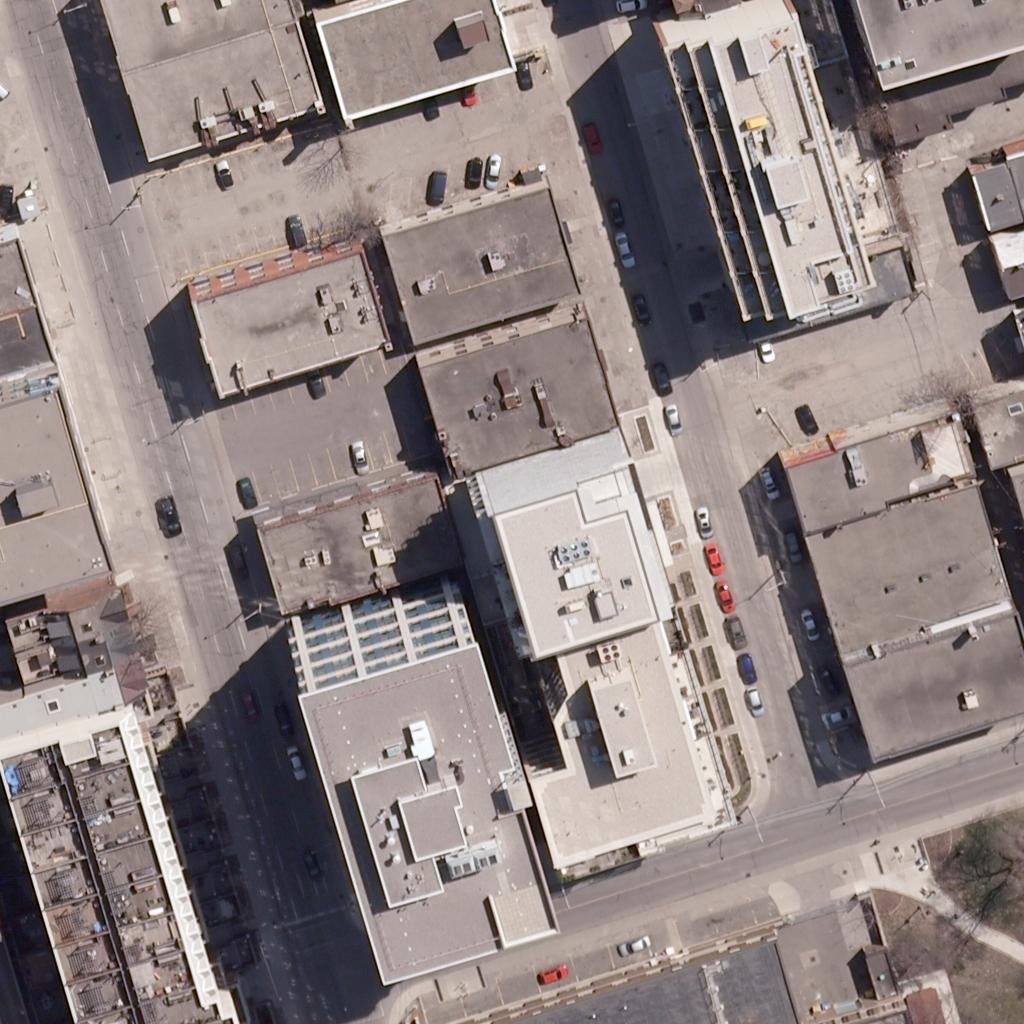car: (506, 59, 540, 93), (452, 74, 486, 108), (413, 87, 447, 121), (575, 121, 609, 155), (456, 154, 490, 188), (475, 154, 509, 188), (206, 155, 240, 189), (419, 174, 453, 208), (597, 195, 631, 229), (278, 212, 312, 246), (605, 229, 639, 263), (623, 290, 657, 324), (747, 331, 781, 365), (646, 361, 680, 395), (300, 365, 334, 399), (654, 402, 688, 436), (790, 402, 824, 436), (341, 441, 375, 475), (751, 465, 785, 499), (227, 475, 261, 509), (154, 502, 188, 536), (687, 505, 721, 539), (776, 532, 810, 566), (696, 542, 730, 576), (221, 546, 255, 580), (707, 579, 741, 613), (792, 607, 826, 641), (719, 615, 753, 649), (730, 651, 764, 685), (809, 659, 843, 693), (737, 684, 771, 718), (232, 687, 266, 721), (818, 699, 852, 733), (266, 703, 300, 737), (277, 745, 311, 779), (292, 847, 326, 881), (618, 927, 652, 961), (532, 958, 566, 992), (0, 181, 21, 215), (613, 0, 647, 20)
